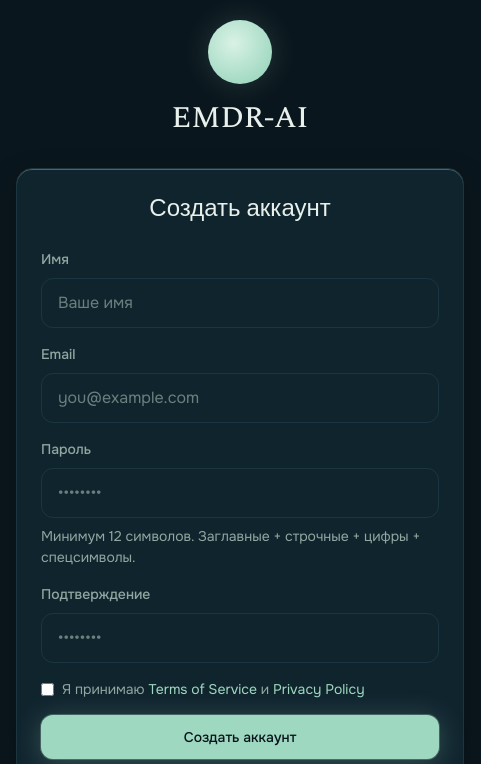
Test: RegisterPage (#150) › password strength indicator › "Очень слабый" для короткого пароля без символов
The image size is (481, 764).
Type "abc" into the password field labelled "Пароль" at [240, 493], box [41,468,439,518]
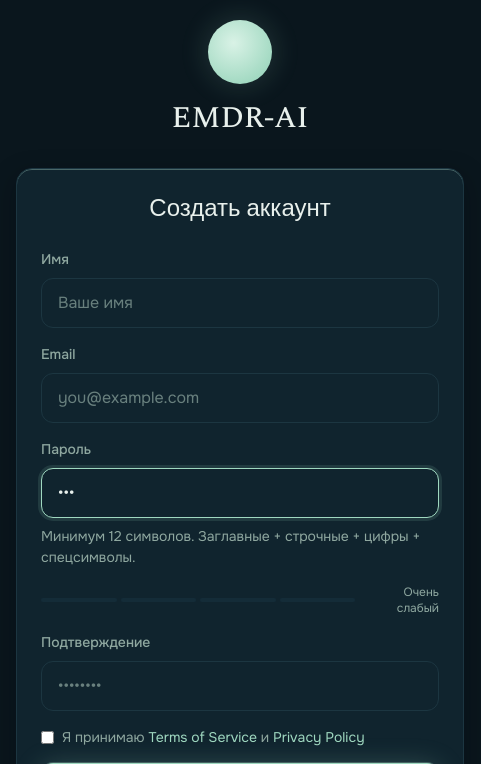
Now the text "Очень слабый" is shown, box [397,584,439,616]
